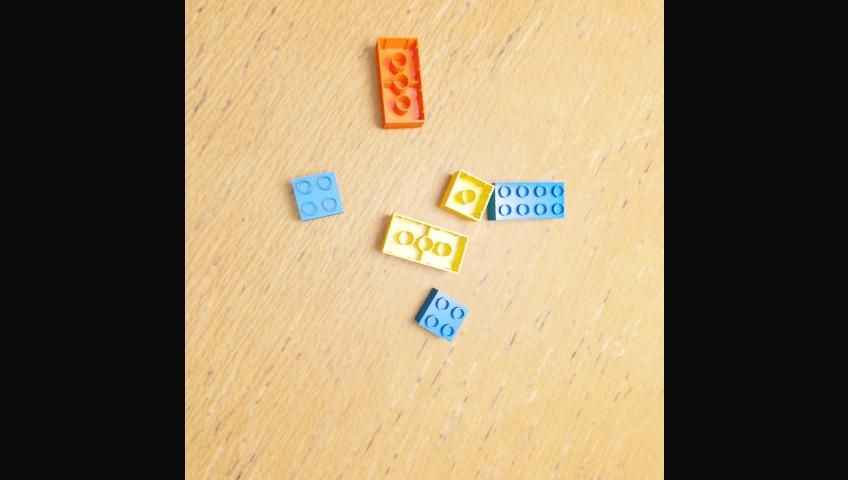2x2_blue: (414, 287, 470, 341), (291, 171, 344, 220)
2x2_yellow: (439, 169, 494, 221)
4x2_blue: (487, 182, 565, 219)
4x2_orange: (375, 36, 426, 128)
4x2_yellow: (380, 213, 469, 273)
